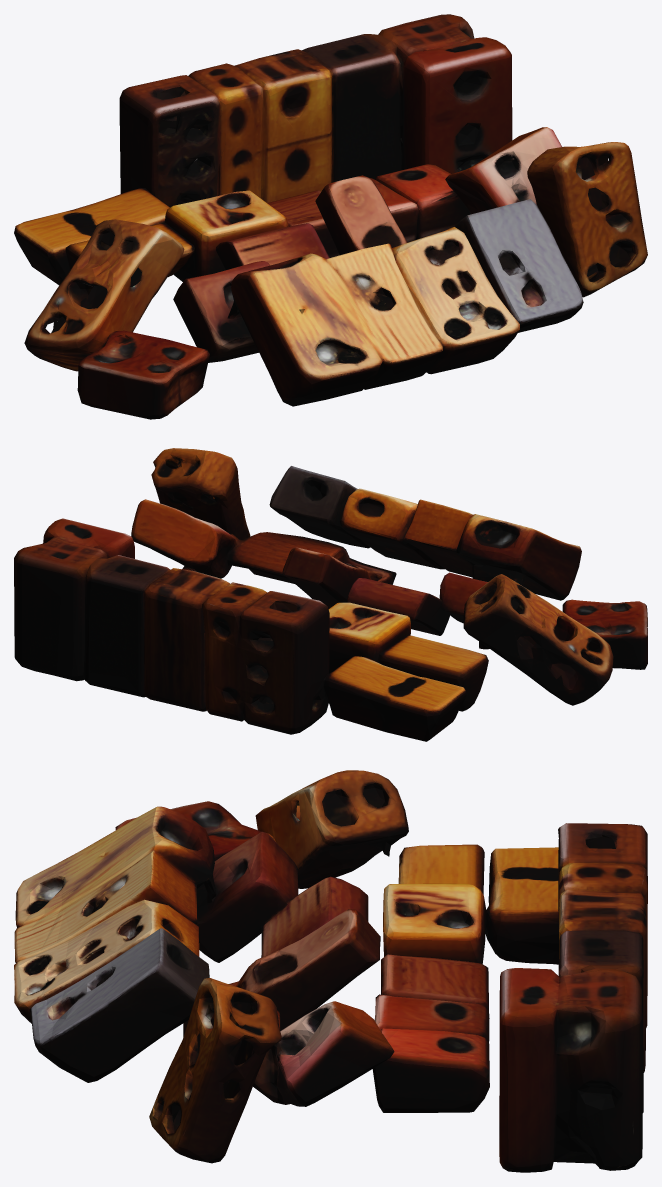
Rendered from wooden-dominoes-vintage.jpeg.glb.
3 views of the same model, one above another, from view 1: azimuth 30°, elevation 25°; view 2: azimuth 150°, elevation 25°; view 3: azimuth 270°, elevation 25° (orthographic). The views are drawn at different scales.
Parts seen in each view (by area): view 1: world; view 2: world; view 3: world.
Boxes of the visible parts, x1=… form: world: x1=14, y1=14, x2=647, y2=419; world: x1=14, y1=448, x2=647, y2=741; world: x1=14, y1=770, x2=647, y2=1172.
Bounding box in the file's own units: 0.9942 × 0.2418 × 0.8062.
1 material, 1 textured.
